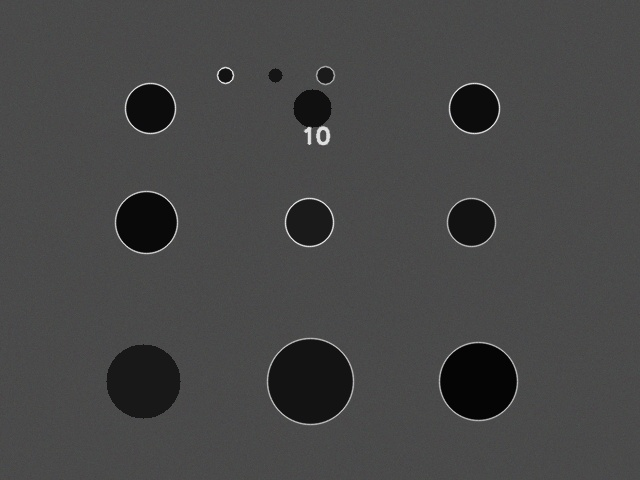hole: (267, 338, 353, 424), (439, 342, 517, 420), (106, 344, 180, 418), (115, 191, 177, 253), (125, 83, 175, 133), (449, 83, 499, 133), (285, 198, 333, 246), (447, 198, 495, 246), (293, 89, 331, 127), (316, 66, 334, 84), (217, 67, 233, 83), (268, 68, 282, 82)
